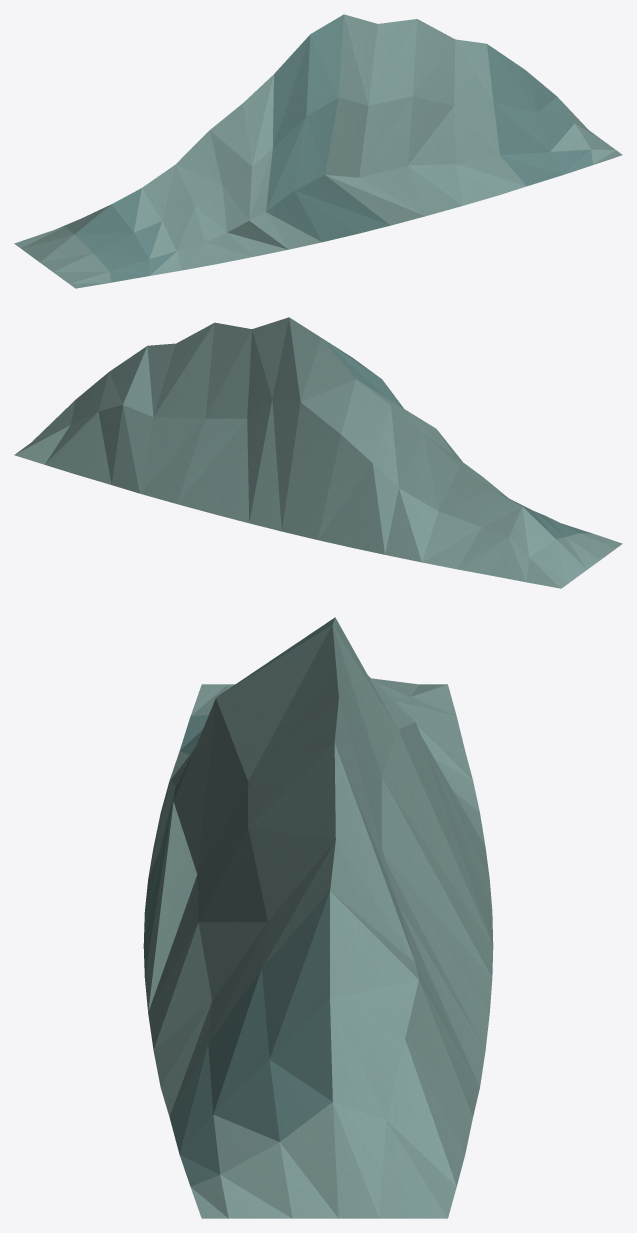
File: 07_river_valley_ridge.obj
The picture shows the model from 3 angles, top to bottom: view 1: azimuth 30°, elevation 25°; view 2: azimuth 150°, elevation 25°; view 3: azimuth 270°, elevation 25°; orthographic projection. The views are drawn at different scales.
Parts seen in each view (by area): view 1: Mountain_River_Valley; view 2: Mountain_River_Valley; view 3: Mountain_River_Valley.
Part boxes in pixels (<box>): Mountain_River_Valley: <box>14,14,622,288</box>; Mountain_River_Valley: <box>14,317,622,588</box>; Mountain_River_Valley: <box>143,617,493,1218</box>.
Bounding box in the file's own units: 17 × 5.25 × 4.7.
1 material, 1 textured.
